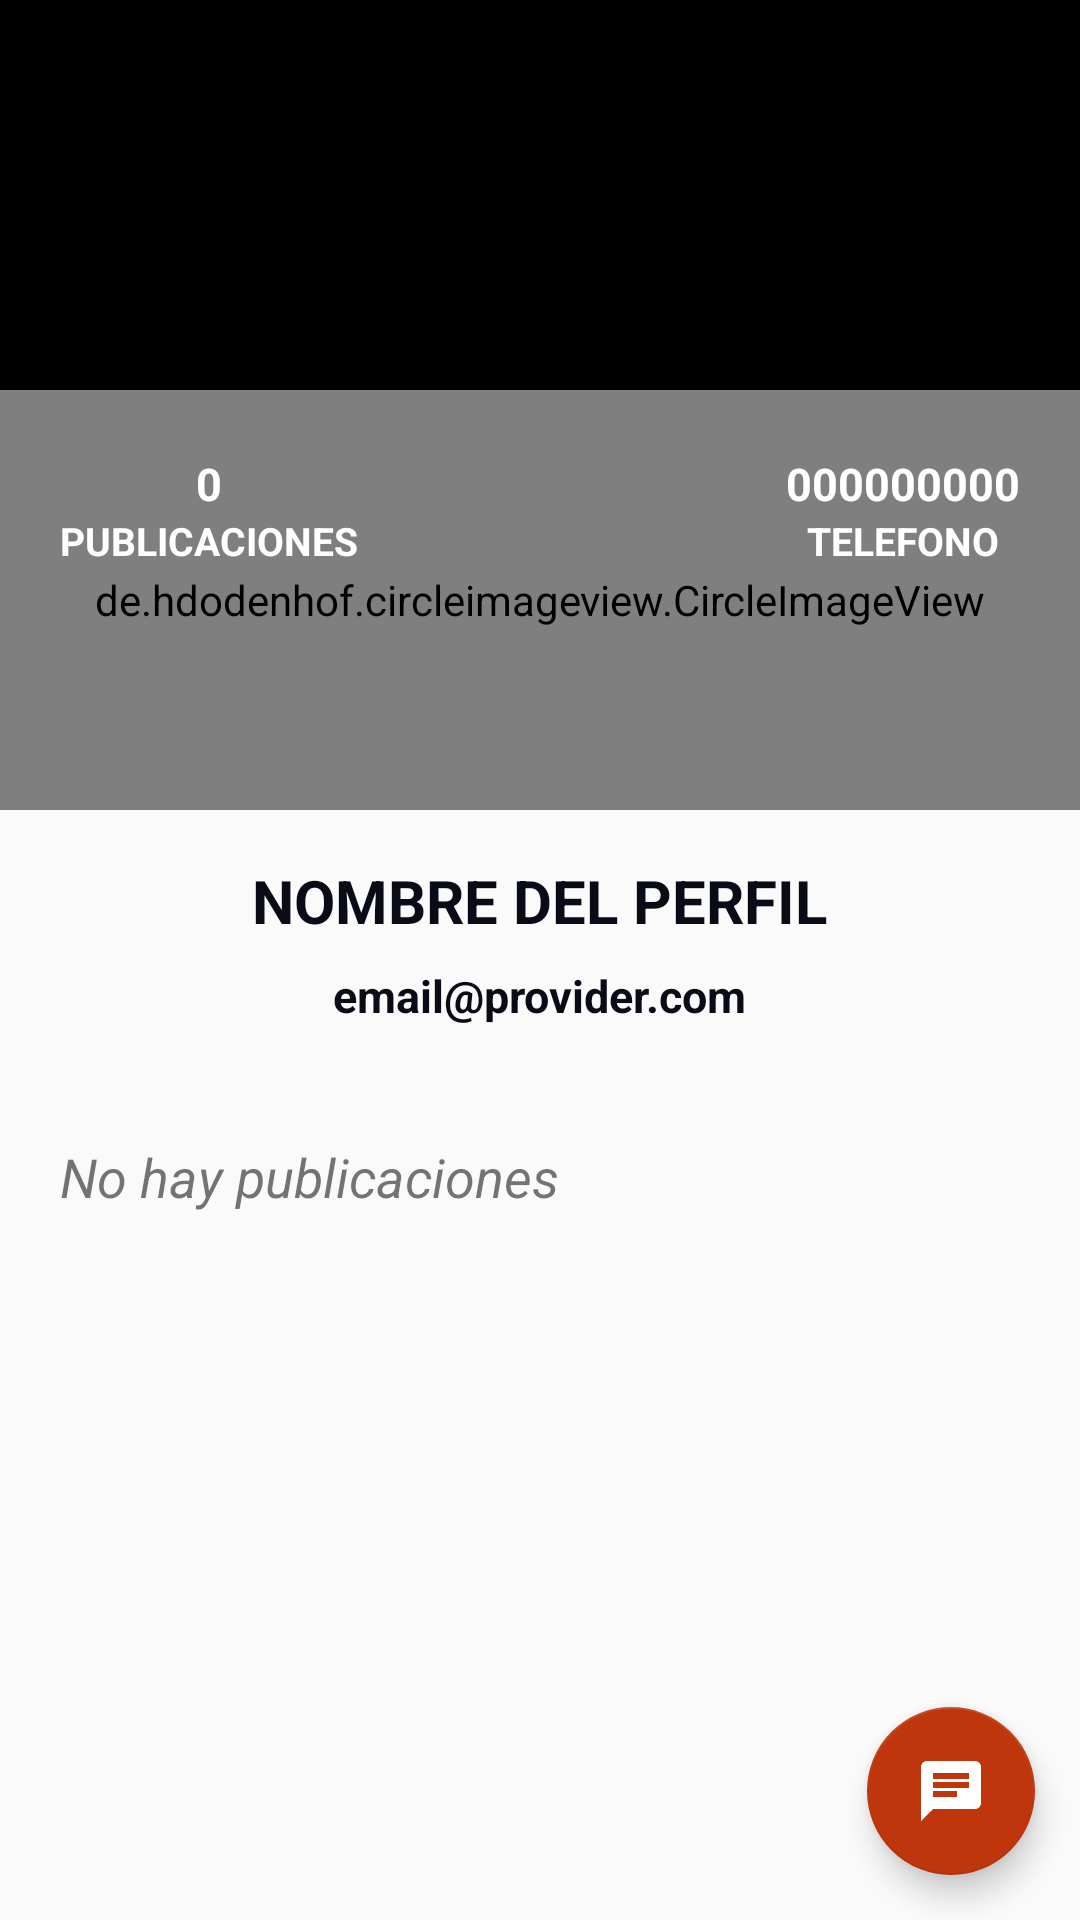

Locate icon controls on the screen. Image size 1080px×1920px, boxes as {"x1": x1, "y1": y1, "x2": x2, "y2": y2}.
chat: {"x1": 867, "y1": 1707, "x2": 1035, "y2": 1875}
